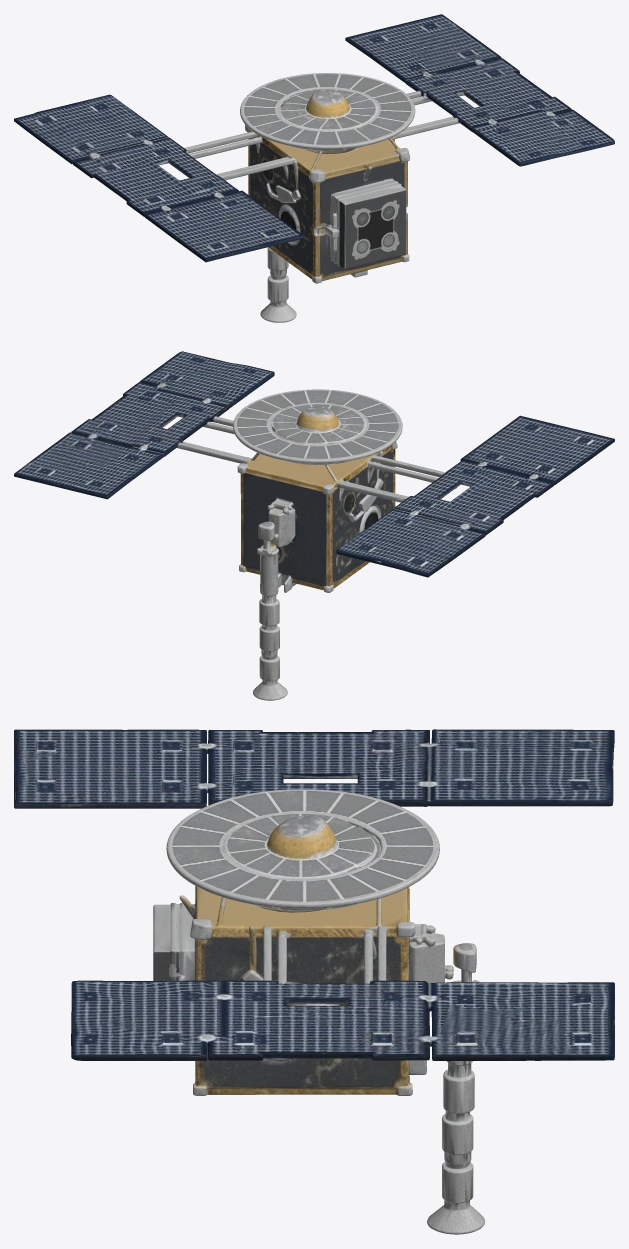
The model's file is hayabusa.glb.
3 renders of one model, top to bottom at view 1: azimuth 30°, elevation 25°; view 2: azimuth 150°, elevation 25°; view 3: azimuth 270°, elevation 25°, orthographic. The views are drawn at different scales.
Bounding box in the file's own units: 1.74 × 0.9967 × 1.35.
Materials: 1 (1 with a texture image).
